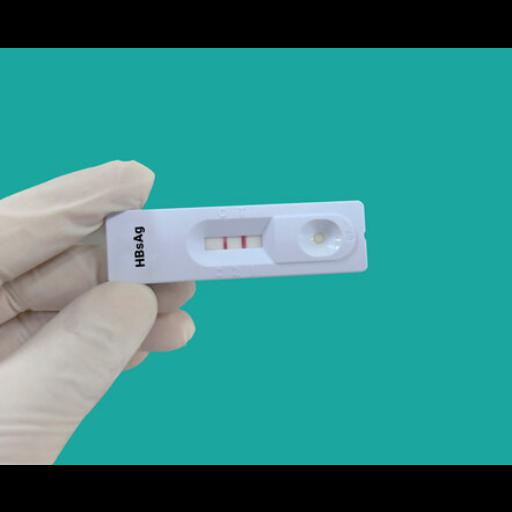Pos: (107, 200, 370, 285)
